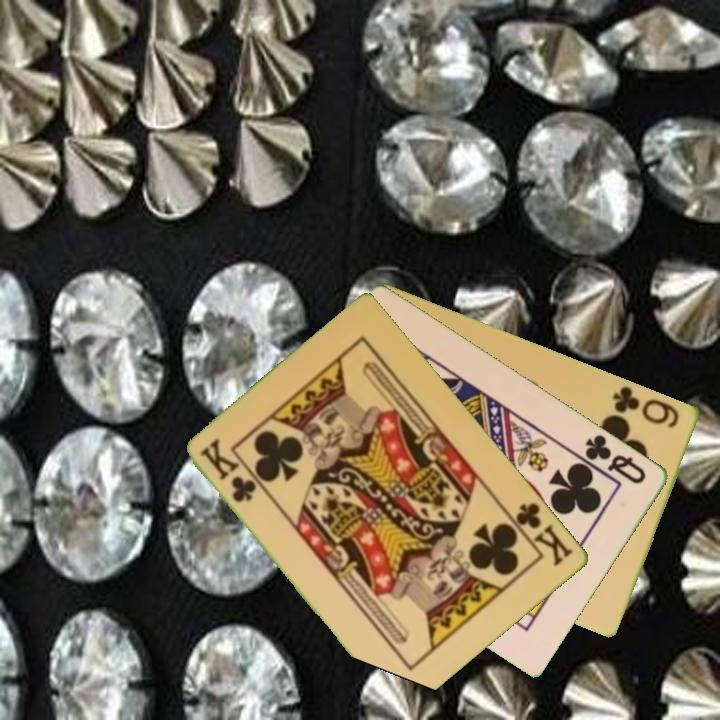6c: (609, 382, 683, 431)
Kc: (504, 498, 577, 569), (197, 436, 260, 506)
Qc: (581, 430, 650, 487)
